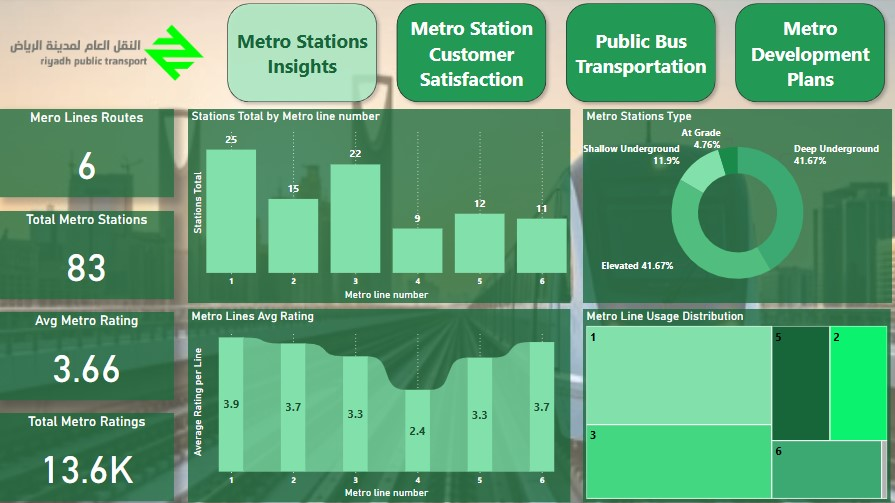

This screenshot's page, from the dashboard's own definition file:
{"tool":"powerbi","page":{"name":"Metro Stations Insights","canvas":[1280,720],"ordinal":1},"visuals":[{"type":"columnChart","fields":{"Category":["Riyadh Metro Lines 2024.Index"],"Y":["__Measures.Stations Total"]},"box":[275.3,159.1,541.7,275.3],"z":0},{"type":"card","title":"Mero Lines Routes","fields":{"Values":["Count(Merge1.Metro line number)"]},"box":[7.2,159.1,248.5,125.1],"z":1000},{"type":"donutChart","title":"Metro Stations Type","fields":{"Category":["Riyadh Metro lines and stations Details 2024.Station type"],"Y":["__Measures.Stations Total"]},"box":[834.9,159.1,438,275.3],"z":2000},{"type":"card","title":"Avg Metro Rating","fields":{"Values":["__Measures.Total Avg Rating"]},"box":[7.2,446.3,248.5,125.1],"z":3000},{"type":"ribbonChart","title":"Metro Lines Avg Rating","fields":{"Category":["Merge1.Metro line number"],"Y":["__Measures.Average Rating per Line"]},"box":[275.3,441.6,541.7,273.5],"z":4000},{"type":"image","box":[0,0,321.1,158.4],"z":5000},{"type":"treemap","title":"Metro Line Usage Distribution","fields":{"Group":["Merge1.Metro line number"],"Values":["Sum(Merge1.Metro Stations Rating.Total Ratings)"]},"box":[834.9,441.6,436.2,273.5],"z":6000},{"type":"card","title":"Total Metro Stations","fields":{"Values":["__Measures.Stations Total"]},"box":[7.2,302.7,248.5,125.1],"z":8000},{"type":"card","title":"Total Metro Ratings","fields":{"Values":["Sum(Metro Stations Rating.Total Ratings)"]},"box":[7.2,589.9,248.5,125.1],"z":9000},{"type":"pageNavigator","box":[321.1,0,950.4,158.4],"z":10000}]}

Visuals, with their boxes in screenshot pixels (x1, y1, x2, y2), scaled from the page's 1280x720 canvas onto the 895x503 screenshot:
columnChart - Riyadh Metro Lines 2024.Index x __Measures.Stations Total: {"left": 192, "top": 111, "right": 571, "bottom": 303}
"Mero Lines Routes" card: {"left": 5, "top": 111, "right": 179, "bottom": 199}
"Metro Stations Type" donutChart: {"left": 584, "top": 111, "right": 890, "bottom": 303}
"Avg Metro Rating" card: {"left": 5, "top": 312, "right": 179, "bottom": 399}
"Metro Lines Avg Rating" ribbonChart: {"left": 192, "top": 309, "right": 571, "bottom": 500}
image: {"left": 0, "top": 0, "right": 225, "bottom": 111}
"Metro Line Usage Distribution" treemap: {"left": 584, "top": 309, "right": 889, "bottom": 500}
"Total Metro Stations" card: {"left": 5, "top": 211, "right": 179, "bottom": 299}
"Total Metro Ratings" card: {"left": 5, "top": 412, "right": 179, "bottom": 500}
pageNavigator: {"left": 225, "top": 0, "right": 889, "bottom": 111}
